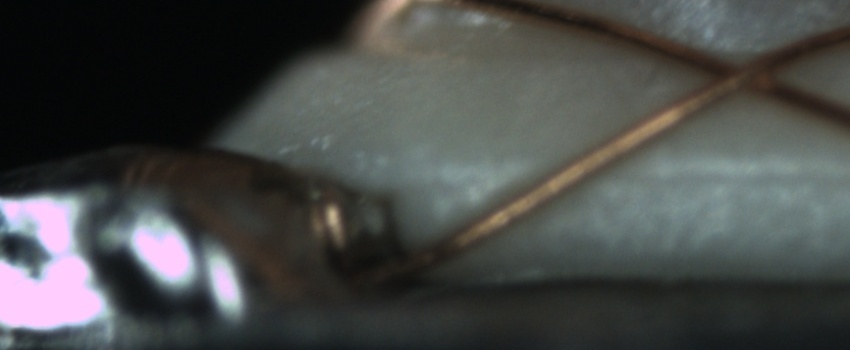CL: (691, 42, 789, 103)
DL: (441, 140, 850, 204)
